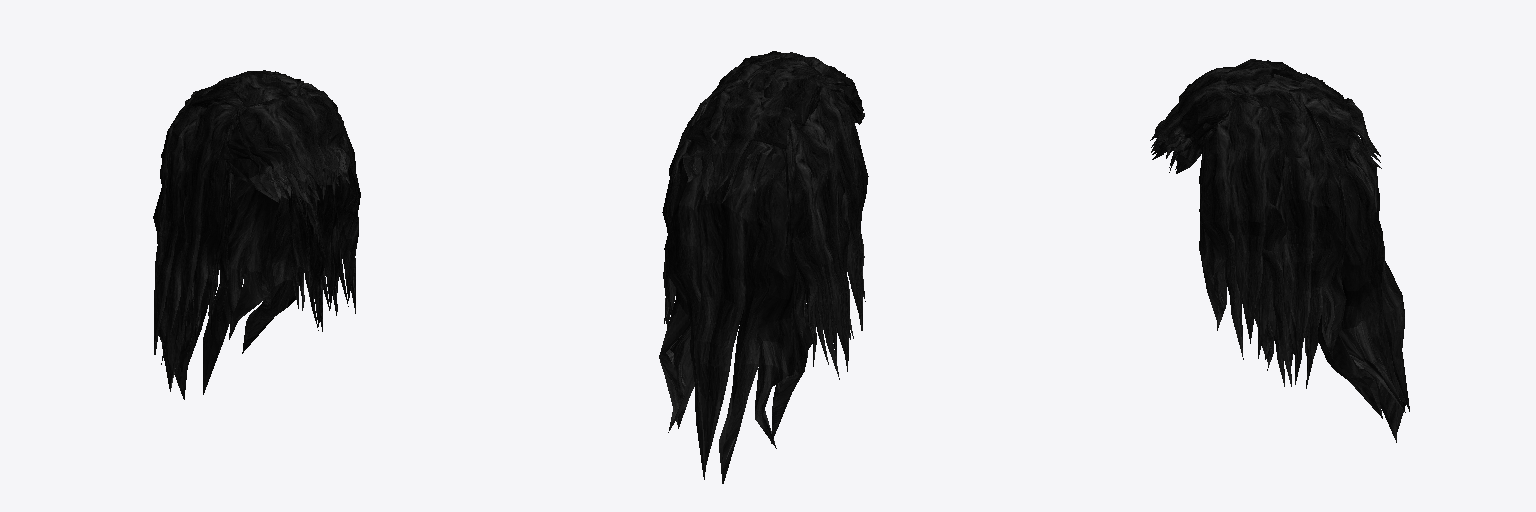
3 views of the same model, side by side, from view 1: azimuth 30°, elevation 25°; view 2: azimuth 150°, elevation 25°; view 3: azimuth 270°, elevation 25° (orthographic).
Parts seen in each view (by area): view 1: BezierCurve.005_Mesh.005; view 2: BezierCurve.005_Mesh.005; view 3: BezierCurve.005_Mesh.005.
Part boxes in pixels (x1,y1,x2,y2): BezierCurve.005_Mesh.005: (153, 70, 360, 399); BezierCurve.005_Mesh.005: (659, 51, 868, 483); BezierCurve.005_Mesh.005: (1150, 59, 1409, 442).
Bounding box in the file's own units: 2.24 × 4.39 × 2.81.
Materials: 1 (1 with a texture image).